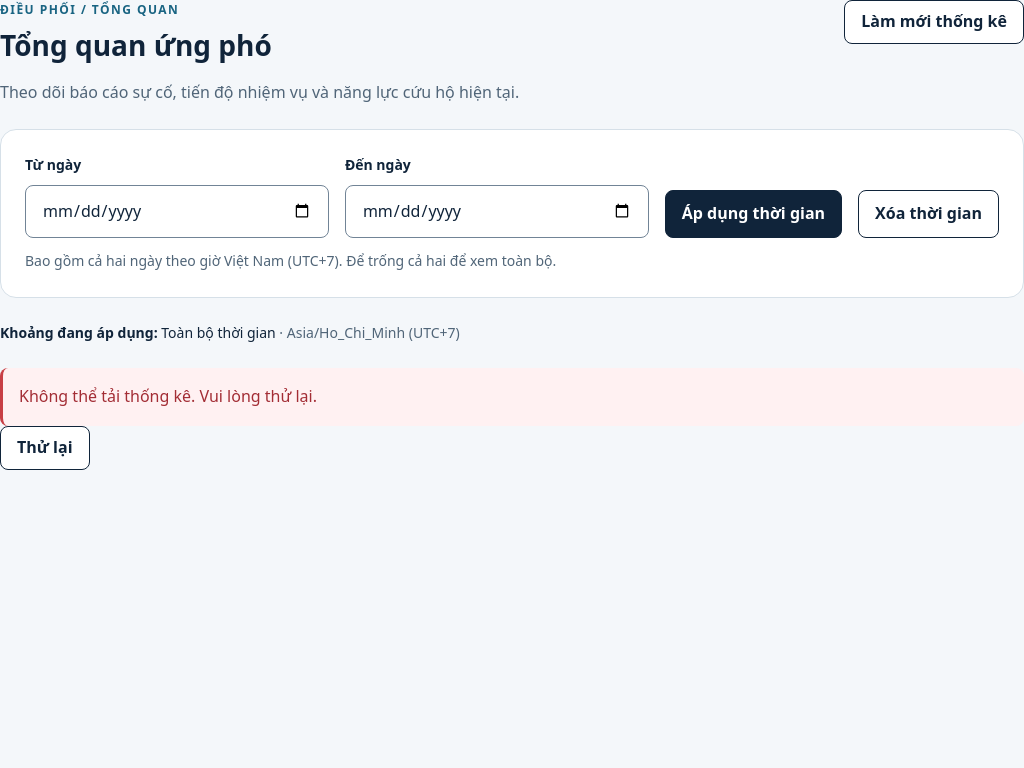
Test: DashboardPage › shows empty cohorts with team capacity and recovers from errors
Expected: the message shows "Không thể tải thống kê", [19,385,317,407]
Click the button "Thử lại": (45,448) [0,426,90,470]
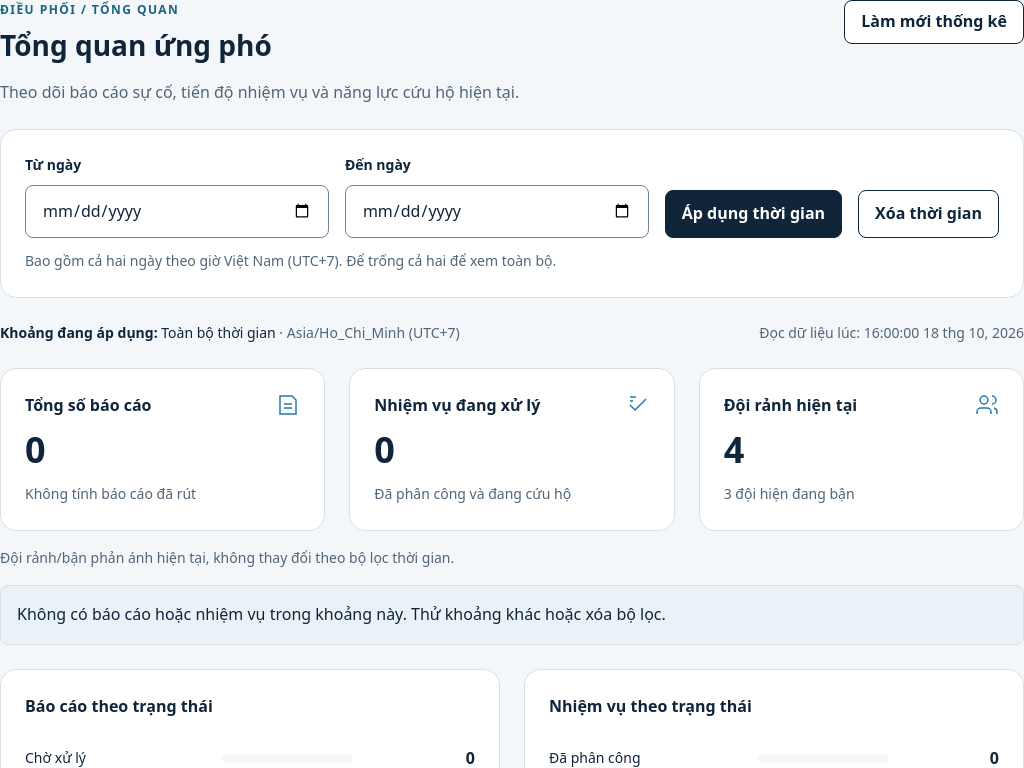
Expected: the text "Không có báo cáo hoặc nhiệm vụ" is shown, [17,603,666,625]
Expected: the element "Đội rảnh hiện tại" shows "4", [724,425,744,474]
